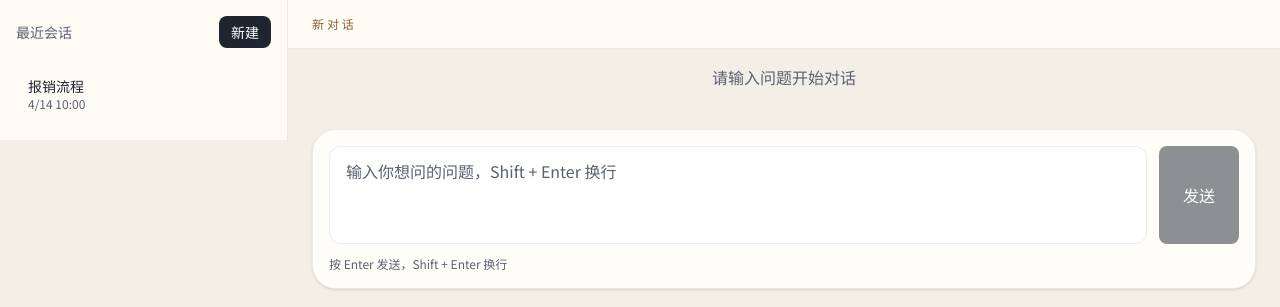
Test: ChatWorkspace › 渲染会话侧栏和输入区
The image size is (1280, 307).
Expected: the heading "最近会话" is shown, [16,22,72,42]
Expected: the text "报销流程" is shown, [28,76,84,96]
Type "公司报销上限是多少？" into the text box with placeholder "输入你想问的问题，Shift + Enter 换行". click: (738, 195)
box: [329,146,1147,244]
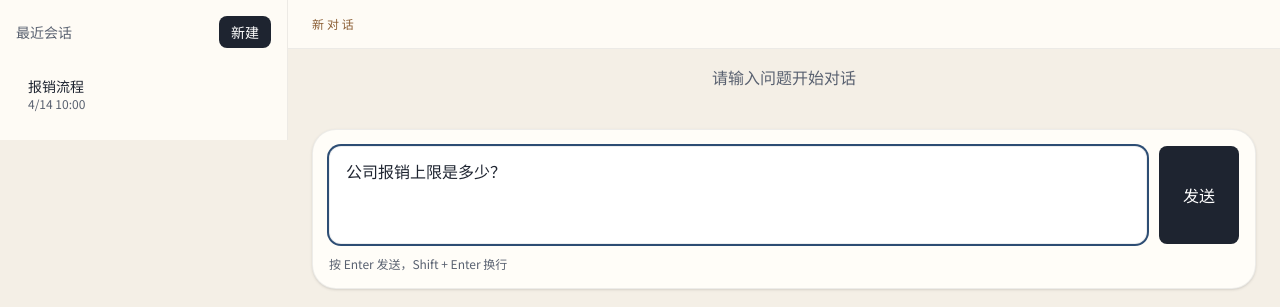
Result: the button "发送" is enabled at [1159,146,1239,244]
